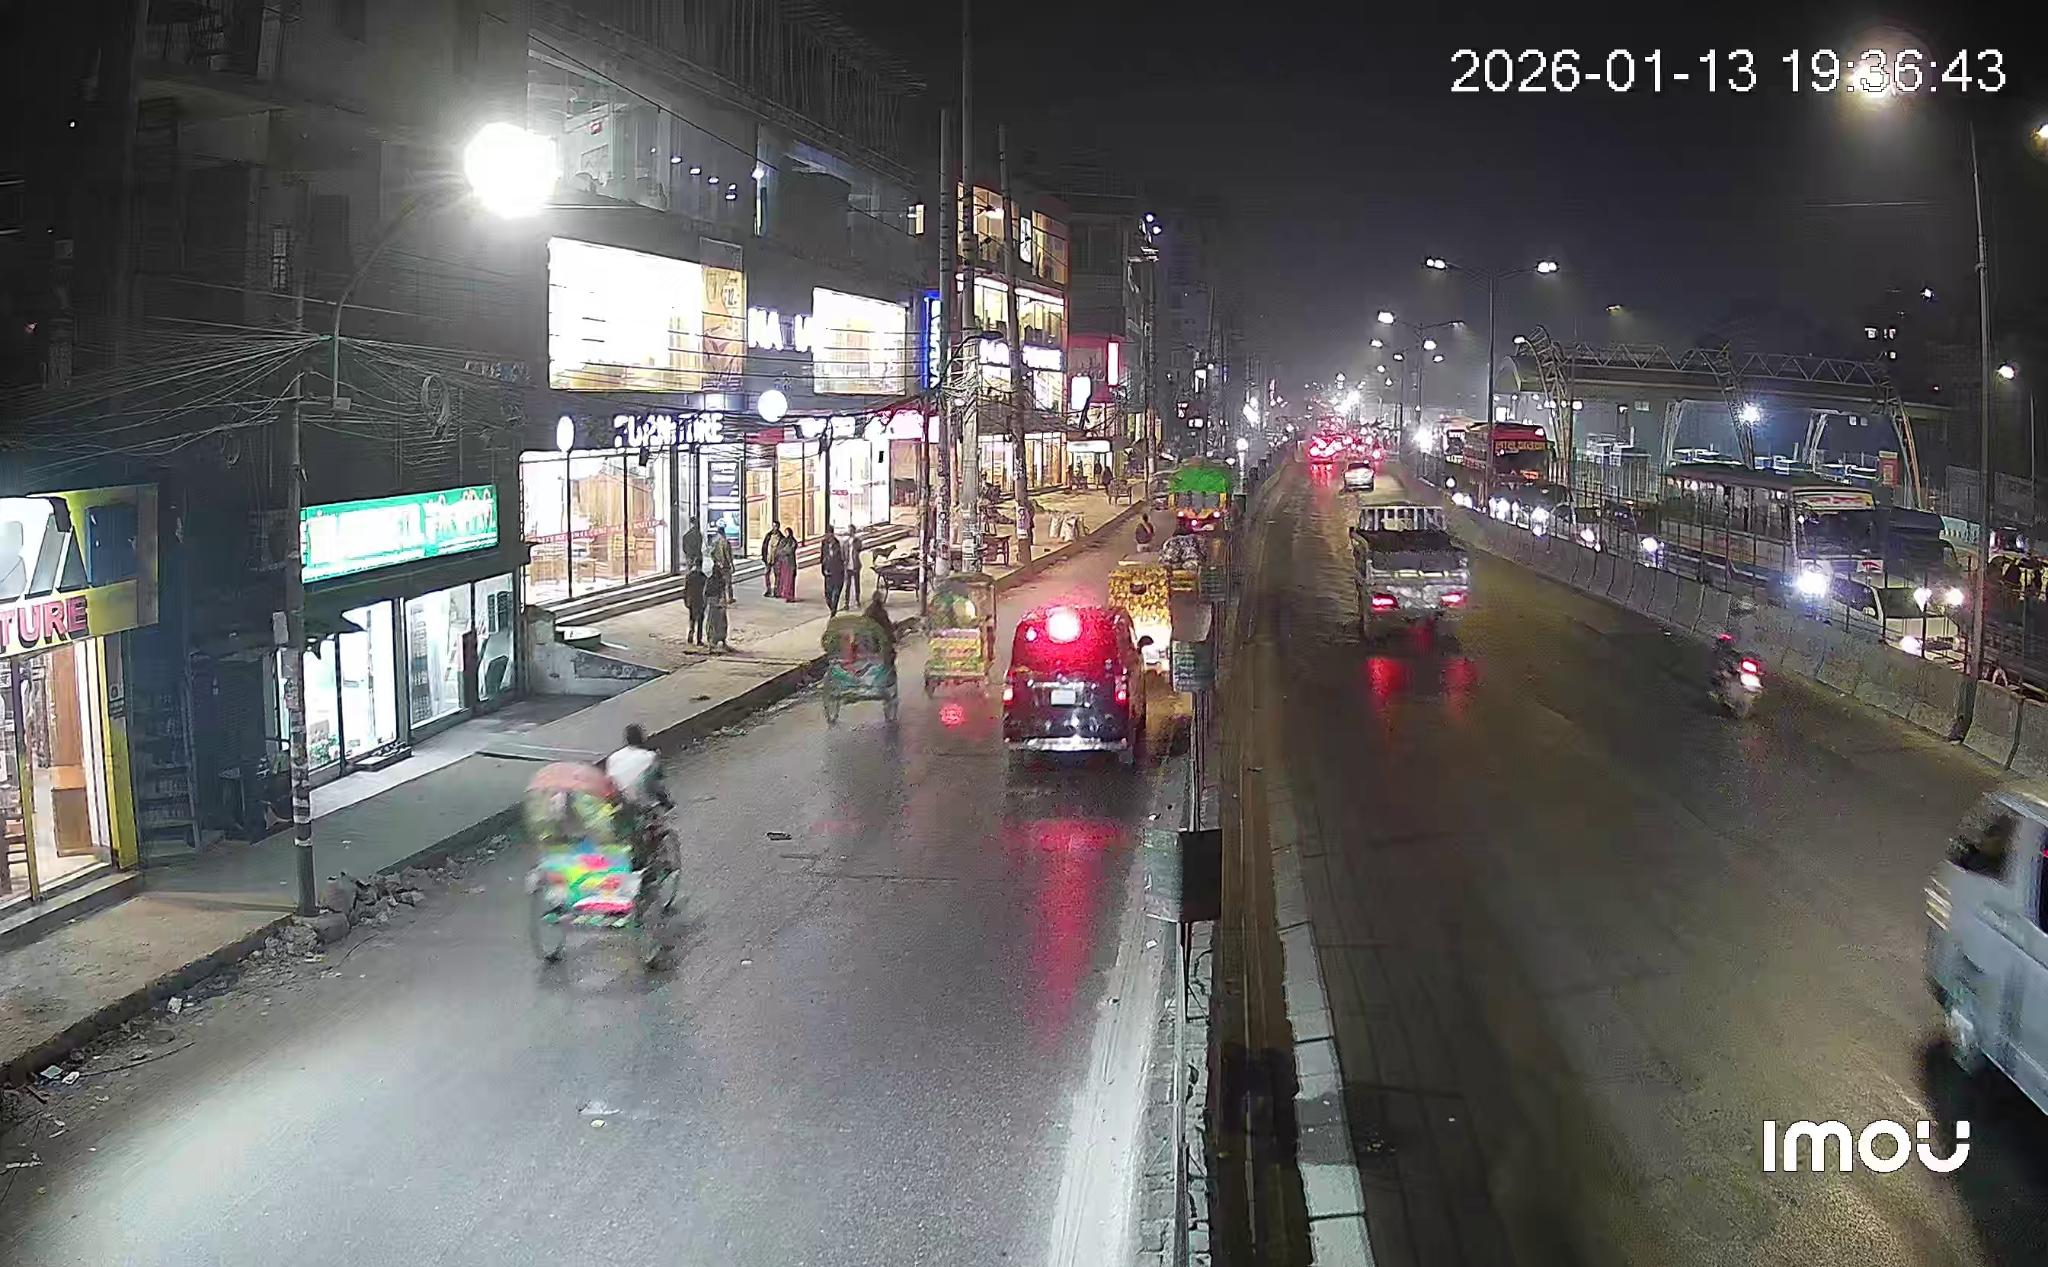Auto Rickshaw: (1107, 556, 1172, 672)
Bus: (1614, 461, 1890, 590)
Cycle Rickshaw: (525, 745, 682, 966), (818, 600, 904, 726), (919, 572, 999, 695)
Jeep-SUV: (1002, 601, 1156, 765)
Motorcycle: (1709, 600, 1763, 717)
Truck: (1349, 503, 1472, 642)
